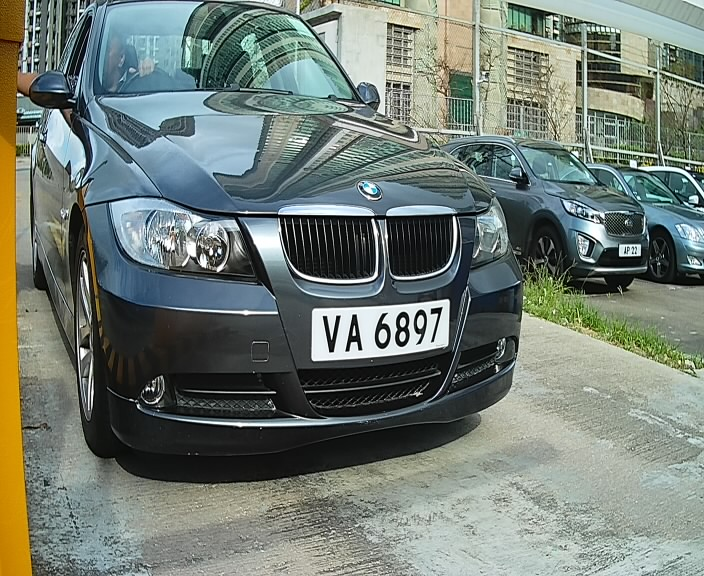Car: (43, 2, 529, 492)
License Plate: (309, 296, 458, 369)
